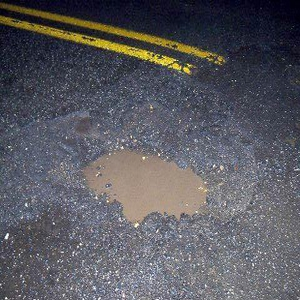pothole: (77, 145, 211, 231)
